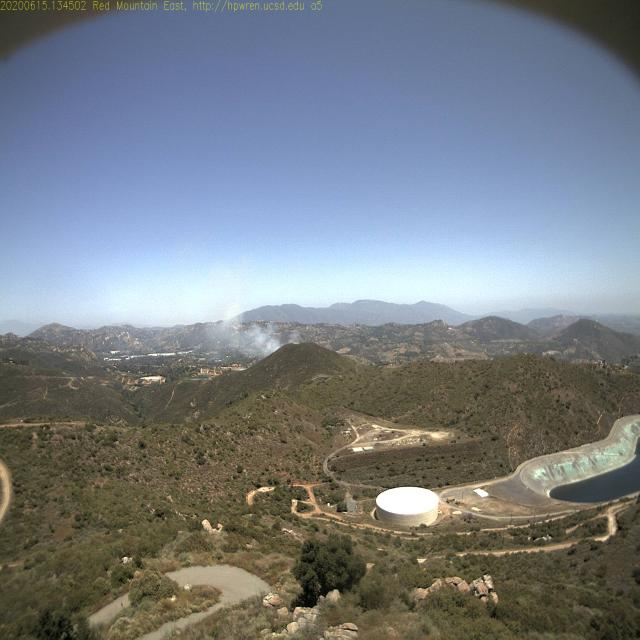smoke: (212, 267, 301, 362), (105, 293, 212, 360)
